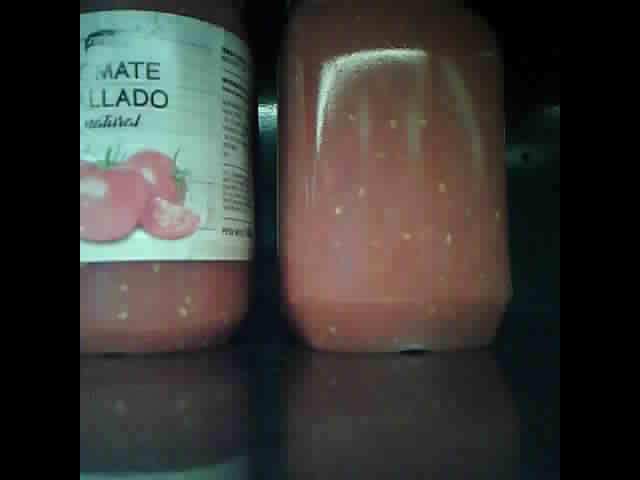tomate: (282, 6, 509, 357), (82, 4, 250, 355)
